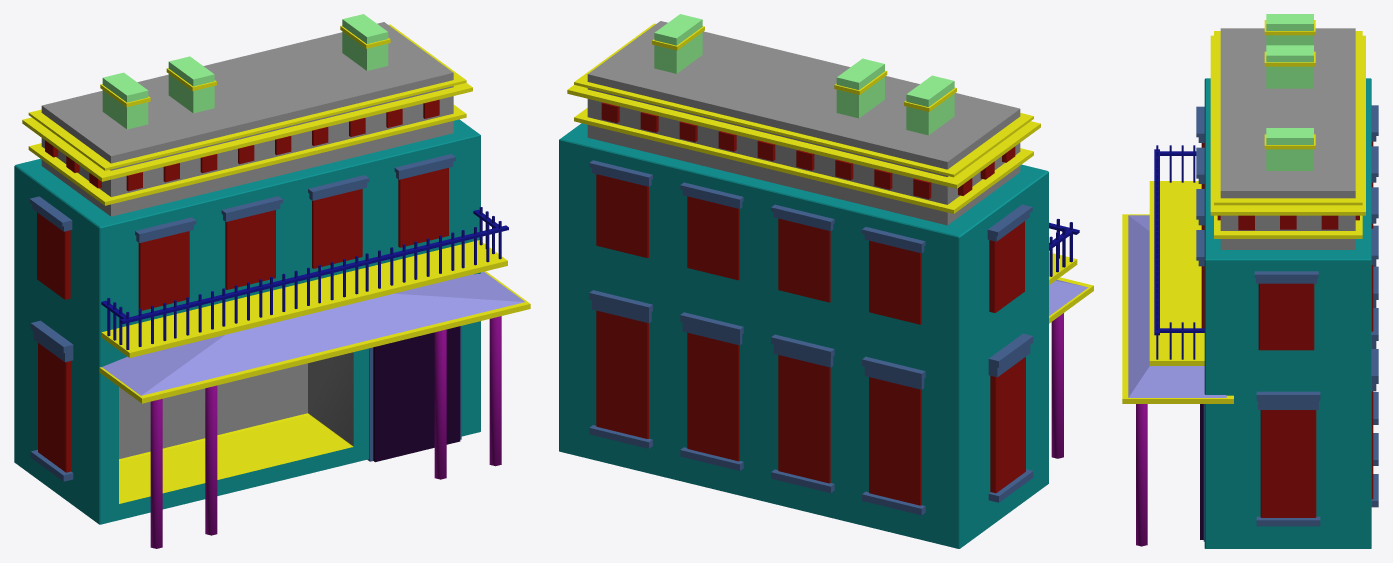
File: sklep01.FBX
3 views of the same model, side by side, from view 1: azimuth 30°, elevation 25°; view 2: azimuth 150°, elevation 25°; view 3: azimuth 270°, elevation 25° (orthographic). The views are drawn at different scales.
Visible parts, largest first — view 1: Box001, Box003, Box036, Pyramid001, Box060, Box133, Cylinder001, Box032, Box059, Box118, Box135, Box124 (+1 smaller); view 2: Box001, Box036, Box003, Box059, Box032, Cylinder001, Pyramid001; view 3: Box001, Box003, Box036, Box060, Box059, Box032, Pyramid001, Box135, Cylinder001, Box124, Box118, Box133.
Part boxes in pixels (box(x1,y1,x2,y2)): Box001: box(14, 119, 480, 524); Box003: box(22, 22, 472, 216); Box036: box(37, 99, 448, 472); Pyramid001: box(102, 272, 524, 395); Box060: box(101, 240, 507, 357); Box133: box(373, 326, 460, 462); Cylinder001: box(150, 316, 501, 548); Box032: box(100, 14, 390, 129); Box059: box(29, 154, 455, 481); Box118: box(107, 207, 501, 349); Box135: box(99, 271, 530, 403); Box124: box(101, 209, 508, 323); Box001: box(559, 123, 1048, 548); Box036: box(596, 102, 1025, 505); Box003: box(567, 21, 1040, 225); Box059: box(589, 160, 1033, 515); Box032: box(652, 14, 956, 135); Cylinder001: box(1051, 313, 1063, 458); Pyramid001: box(1049, 280, 1088, 315); Box001: box(1204, 78, 1371, 548); Box003: box(1210, 28, 1365, 249); Box036: box(1201, 141, 1373, 517); Box060: box(1149, 181, 1204, 365); Box059: box(1196, 105, 1378, 526); Box032: box(1264, 14, 1315, 170); Pyramid001: box(1128, 215, 1226, 397); Box135: box(1122, 214, 1233, 403); Cylinder001: box(1136, 404, 1147, 546); Box124: box(1154, 149, 1204, 335); Box118: box(1156, 145, 1195, 359); Box133: box(1200, 404, 1203, 539).
Bounding box in the file's own units: 821 × 776 × 468.
